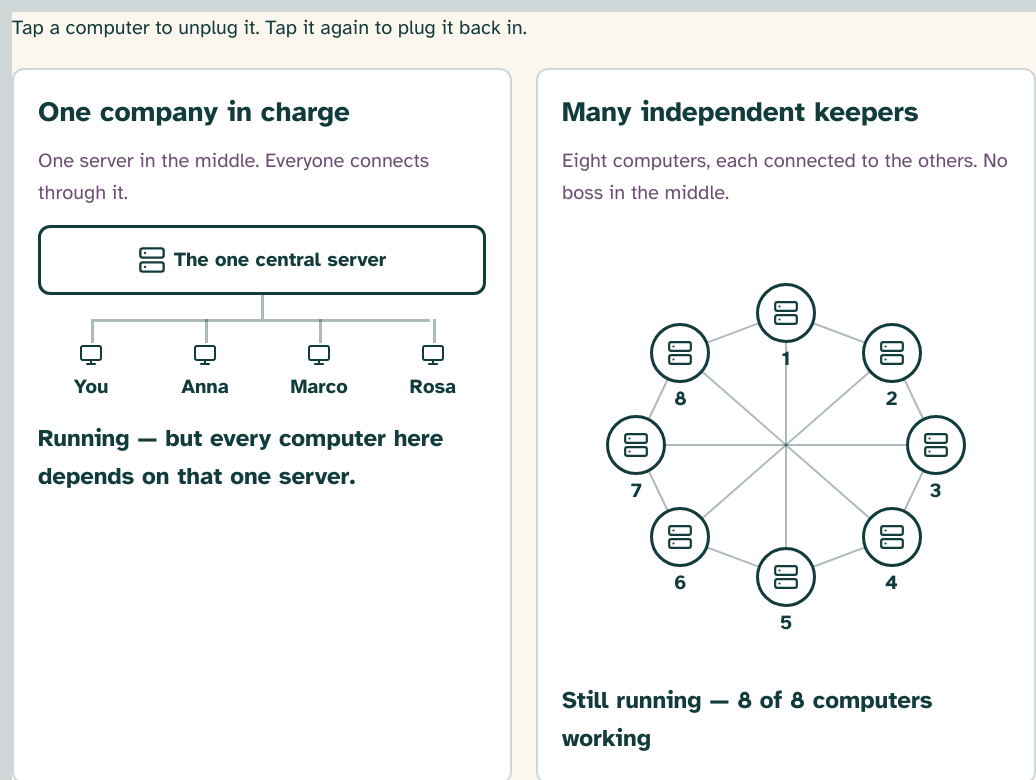
NodeNetworkSim › reports "System down — everyone is cut off" the moment the central server is unplugged
Step 1. Click the button with class "central-tree__server" → click(262, 260), box [38,225,486,295]
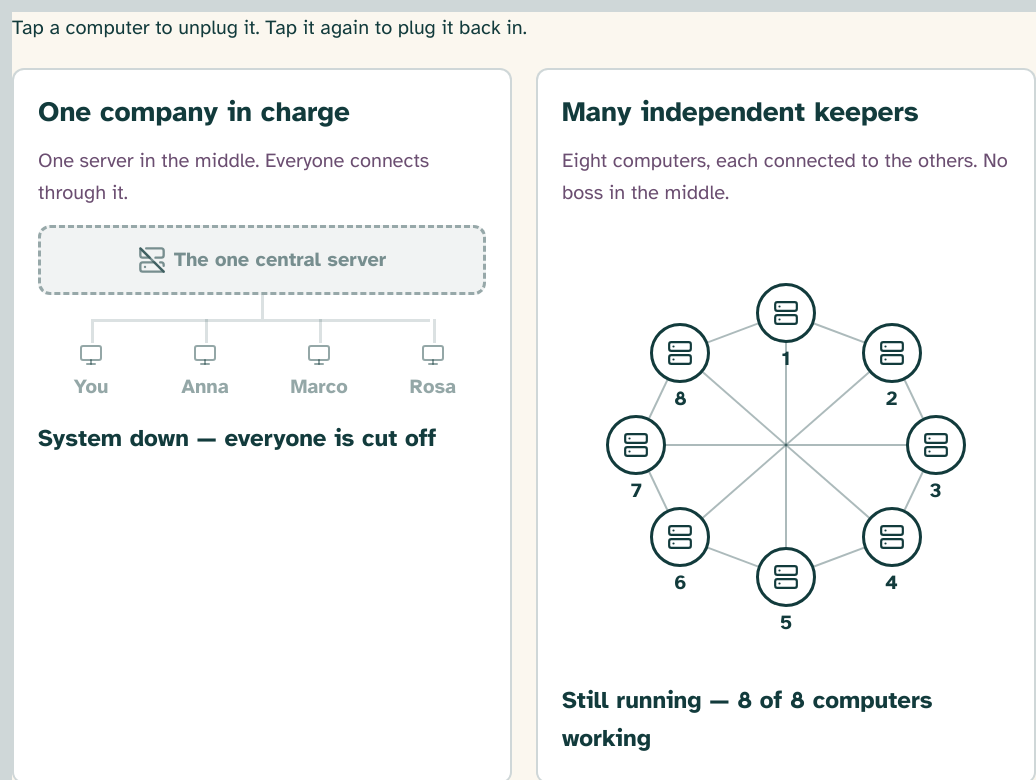
Check: the text with class "network-panel__status" reads "Still running — 8 of 8 computers working", box [562,685,933,753]
Check: the text with class "network-panel__status" reads "System down — everyone is cut off", box [38,423,436,453]
